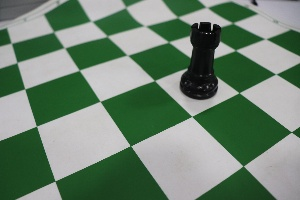black_rook: (177, 7, 227, 106)
